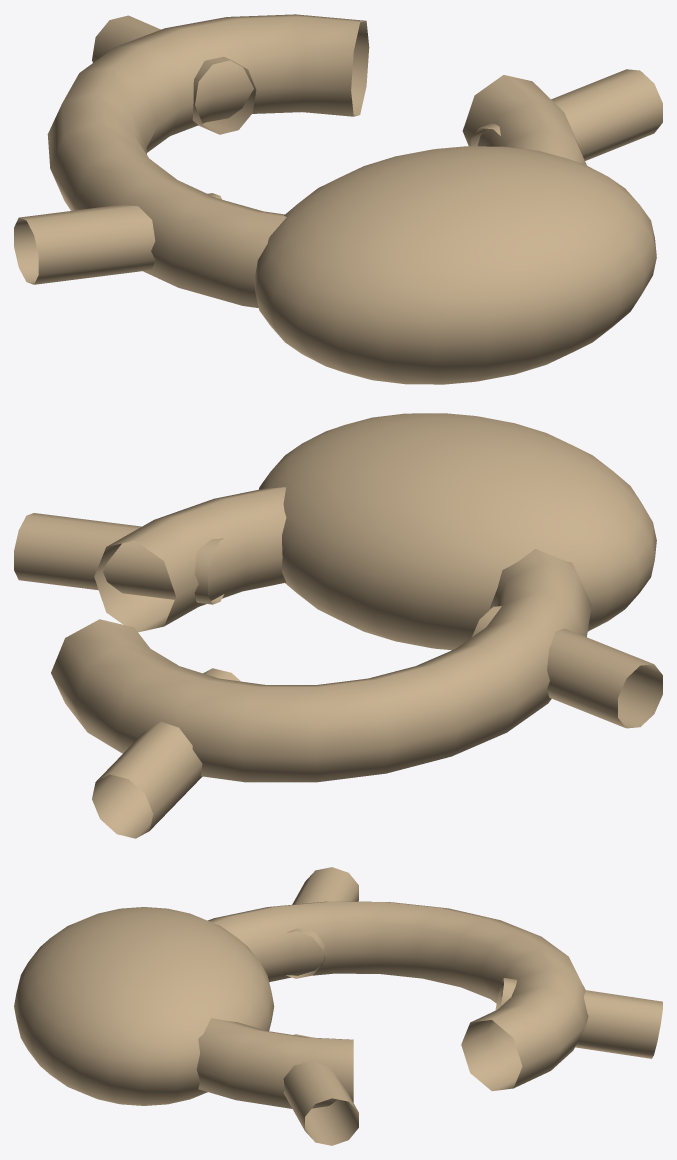
3 renders of one model, top to bottom at view 1: azimuth 30°, elevation 25°; view 2: azimuth 150°, elevation 25°; view 3: azimuth 270°, elevation 25°, orthographic. The views are drawn at different scales.
Visible parts, largest first — view 1: c5:centrum, c5:neural-arch, c5:transverse--1, c5:transverse-1, c5:spinous-process; view 2: c5:neural-arch, c5:centrum, c5:transverse-1, c5:transverse--1, c5:spinous-process; view 3: c5:neural-arch, c5:centrum, c5:spinous-process, c5:transverse-1, c5:transverse--1.
Boxes of the visible parts, x1,y1,x2,y2 form: c5:centrum: (254, 146, 656, 384); c5:neural-arch: (47, 14, 586, 307); c5:transverse--1: (14, 193, 221, 284); c5:transverse-1: (470, 69, 662, 160); c5:spinous-process: (92, 15, 256, 134); c5:neural-arch: (51, 487, 591, 782); c5:centrum: (259, 413, 656, 650); c5:transverse-1: (14, 513, 224, 604); c5:transverse--1: (471, 606, 662, 728); c5:spinous-process: (92, 668, 240, 838); c5:neural-arch: (196, 901, 588, 1108); c5:centrum: (14, 907, 274, 1105); c5:spinous-process: (495, 978, 662, 1058); c5:transverse-1: (283, 1034, 358, 1145); c5:transverse--1: (286, 867, 358, 978).
Size of the model in its own units: 0.288 by 0.0816 by 0.336.
